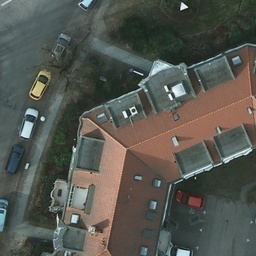car: (16, 107, 39, 141), (46, 33, 69, 64), (28, 67, 50, 99), (174, 189, 206, 210), (6, 147, 24, 172), (75, 1, 96, 13), (1, 198, 7, 232)
